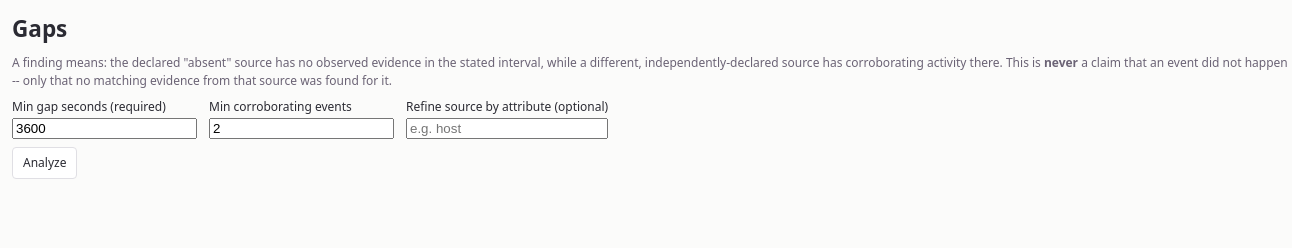
Test: GapsPanel › offers tracking only after an analysis found something to track
Click the button "Analyze" at (45, 163), box 12,147 -> 78,179
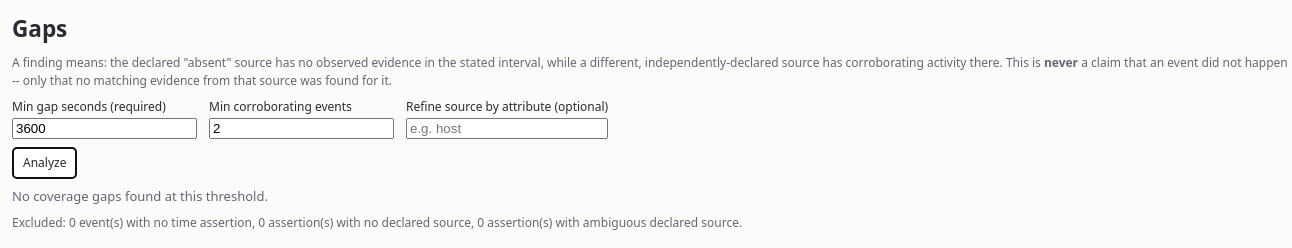
Result: the element with test id "gaps-result" is shown at 12,187 -> 742,231
